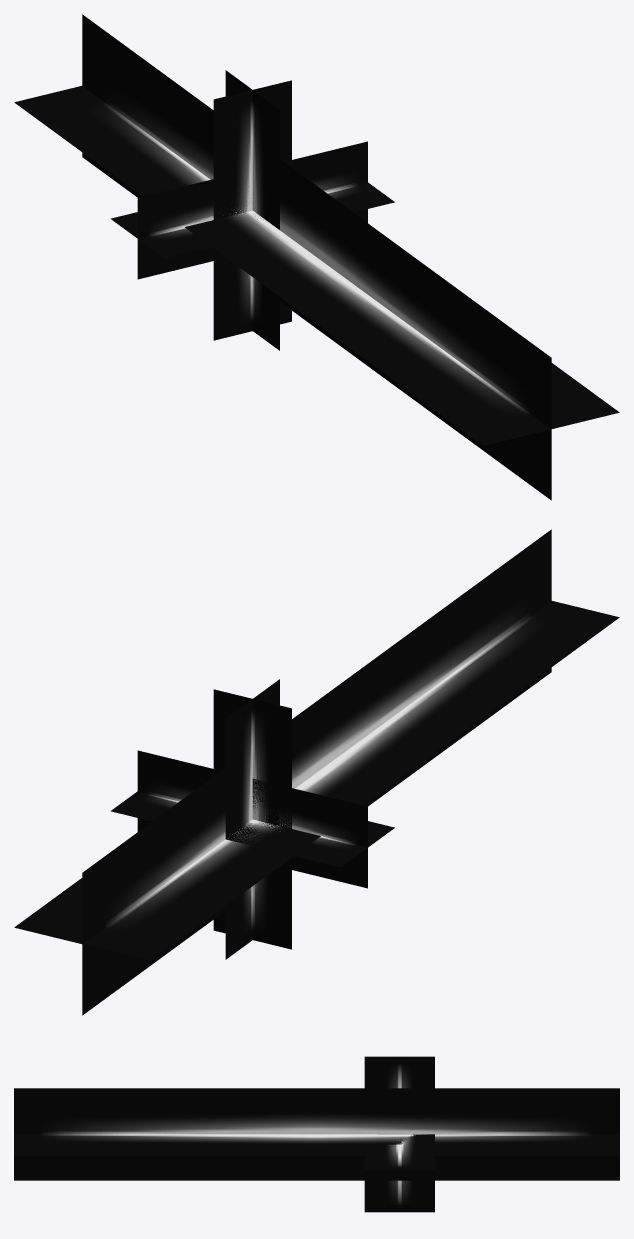
Rendered from blade_efe.FBX.
The picture shows the model from 3 angles, top to bottom: view 1: azimuth 30°, elevation 25°; view 2: azimuth 150°, elevation 25°; view 3: azimuth 270°, elevation 25°; orthographic projection. The views are drawn at different scales.
Parts seen in each view (by area): view 1: Plane001; view 2: Plane001; view 3: Plane001.
Part boxes in pixels (x1=…): Plane001: x1=14, y1=14, x2=619, y2=500; Plane001: x1=14, y1=529, x2=619, y2=1015; Plane001: x1=14, y1=1056, x2=619, y2=1212.
Size of the model in its own units: 25.46 by 25.46 by 89.77.
